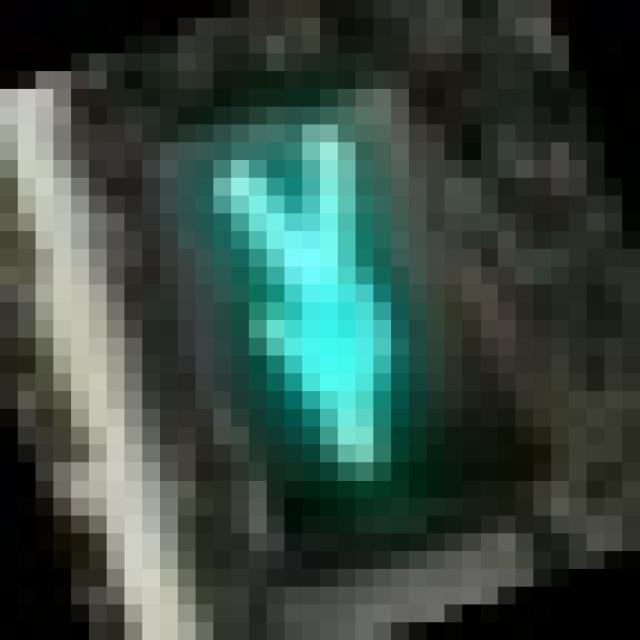geen-crossing: (71, 36, 498, 552)
